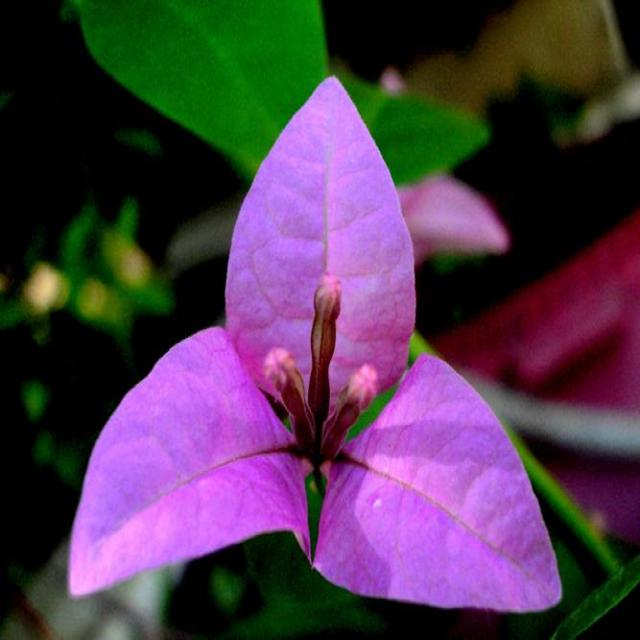bougainvillea: (47, 38, 590, 640)
